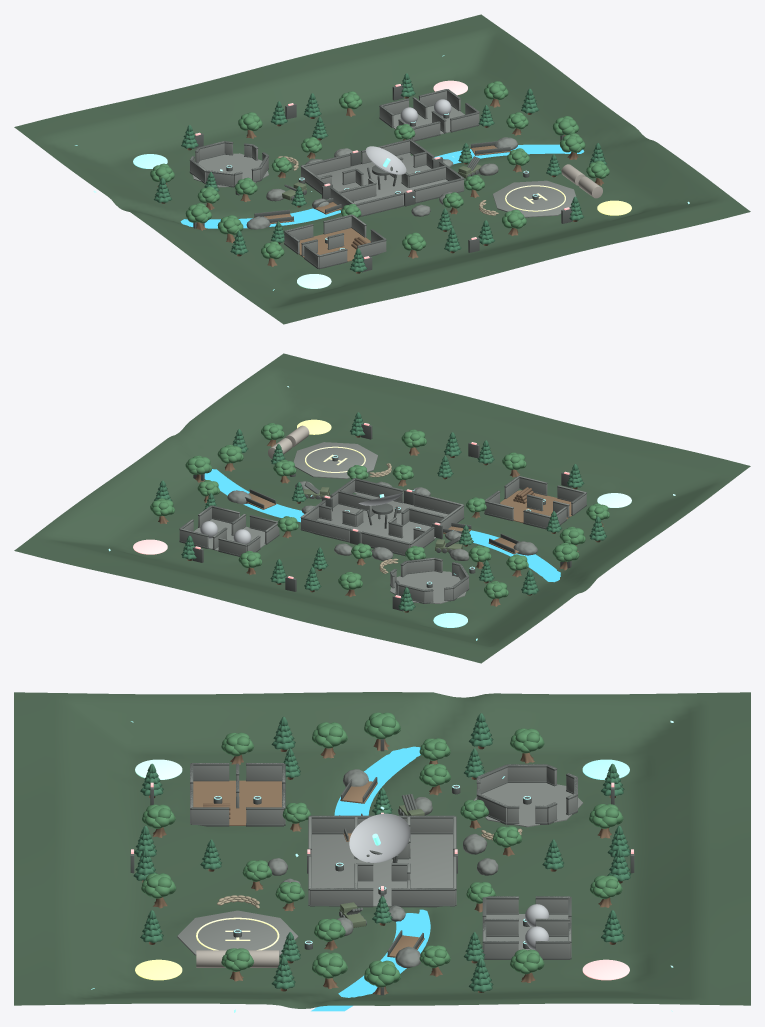
Rendered from Map4_Gece_Orman_Radar_Ussu_4v4v4v4.glb.
3 views of the same model, one above another, from view 1: azimuth 30°, elevation 25°; view 2: azimuth 150°, elevation 25°; view 3: azimuth 270°, elevation 25° (orthographic). The views are drawn at different scales.
Visible parts, largest first — view 1: Forest_Valley_Terrain, SE_Helipad_Octagon, Central_Radar_Compound_Deck, Winding_Stream_Water, NW_Pillbox_Floor, SW_LoggingMill_Deck, Radar_Parabolic_Dish, BunkerWall_8; view 2: Forest_Valley_Terrain, SE_Helipad_Octagon, Winding_Stream_Water, Central_Radar_Compound_Deck, NW_Pillbox_Floor, SW_LoggingMill_Deck, BunkerWall_3; view 3: Forest_Valley_Terrain, Central_Radar_Compound_Deck, SE_Helipad_Octagon, Winding_Stream_Water, SW_LoggingMill_Deck, Radar_Parabolic_Dish, NW_Pillbox_Floor, BunkerWall_5, BunkerWall_6, Pad_Team2_Spawn, Pad_Team4_Spawn, OakTree_21_Canopy (+26 smaller).
Part boxes in pixels (x1,y1,x2,y2): Forest_Valley_Terrain: (14, 14, 750, 324); SE_Helipad_Octagon: (492, 180, 576, 217); Central_Radar_Compound_Deck: (316, 152, 448, 204); Winding_Stream_Water: (180, 144, 584, 228); NW_Pillbox_Floor: (192, 153, 268, 187); SW_LoggingMill_Deck: (299, 228, 370, 261); Radar_Parabolic_Dish: (365, 146, 406, 174); BunkerWall_8: (415, 178, 463, 201); Forest_Valley_Terrain: (14, 353, 750, 663); SE_Helipad_Octagon: (293, 442, 377, 478); Winding_Stream_Water: (204, 469, 560, 582); Central_Radar_Compound_Deck: (316, 491, 448, 542); NW_Pillbox_Floor: (390, 571, 469, 603); SW_LoggingMill_Deck: (500, 490, 571, 522); BunkerWall_3: (301, 519, 349, 540); Forest_Valley_Terrain: (14, 692, 750, 1008); Central_Radar_Compound_Deck: (312, 834, 452, 906); SE_Helipad_Octagon: (177, 910, 298, 955); Winding_Stream_Water: (311, 746, 430, 1011); SW_LoggingMill_Deck: (193, 780, 281, 825); Radar_Parabolic_Dish: (349, 813, 410, 862); NW_Pillbox_Floor: (474, 783, 583, 827); BunkerWall_5: (391, 888, 454, 904); BunkerWall_6: (310, 888, 373, 904); Pad_Team2_Spawn: (582, 959, 629, 980); Pad_Team4_Spawn: (135, 959, 182, 980); OakTree_21_Canopy: (364, 712, 400, 739).
Size of the model in its own units: 113 by 9.48 by 112.
